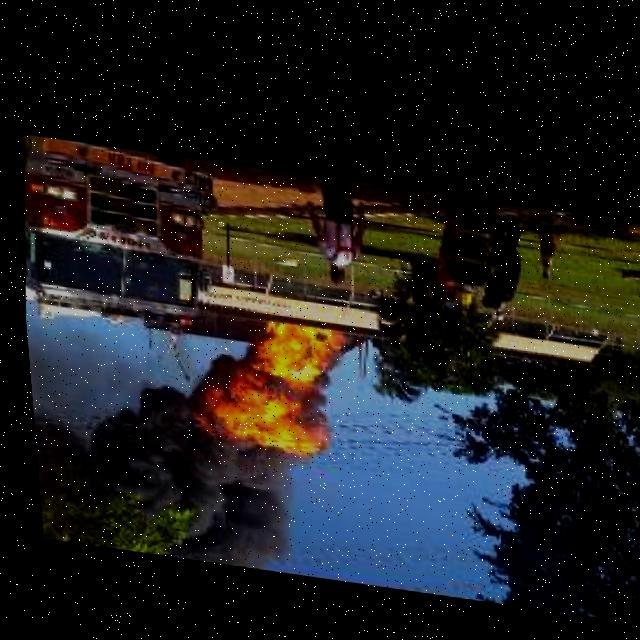Fire: (181, 309, 354, 473)
Smoke: (24, 374, 288, 566)
